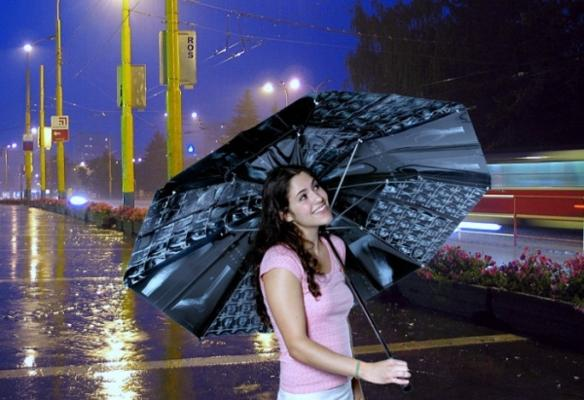person: (251, 163, 410, 400)
